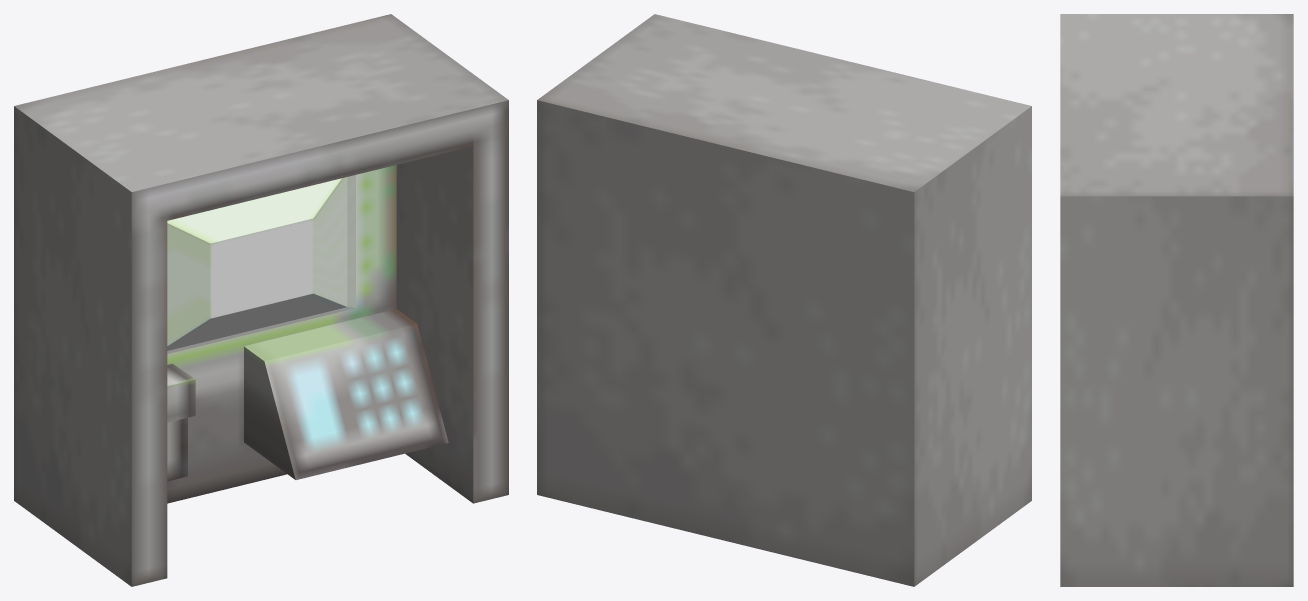
The model's file is Poly_SF_Outside_B_Public_Phone_01.obj.
The picture shows the model from 3 angles, left to right: view 1: azimuth 30°, elevation 25°; view 2: azimuth 150°, elevation 25°; view 3: azimuth 270°, elevation 25°; orthographic projection.
Parts seen in each view (by area): view 1: Cube.005, Cube.001; view 2: Cube.005; view 3: Cube.005.
Boxes of the visible parts, x1,y1,x2,y2 form: Cube.005: [14, 14, 508, 586]; Cube.001: [167, 175, 448, 481]; Cube.005: [537, 14, 1031, 586]; Cube.005: [1060, 14, 1293, 586].
Bounding box in the file's own units: 0.74 × 0.74 × 0.4.
1 material, 1 textured.
